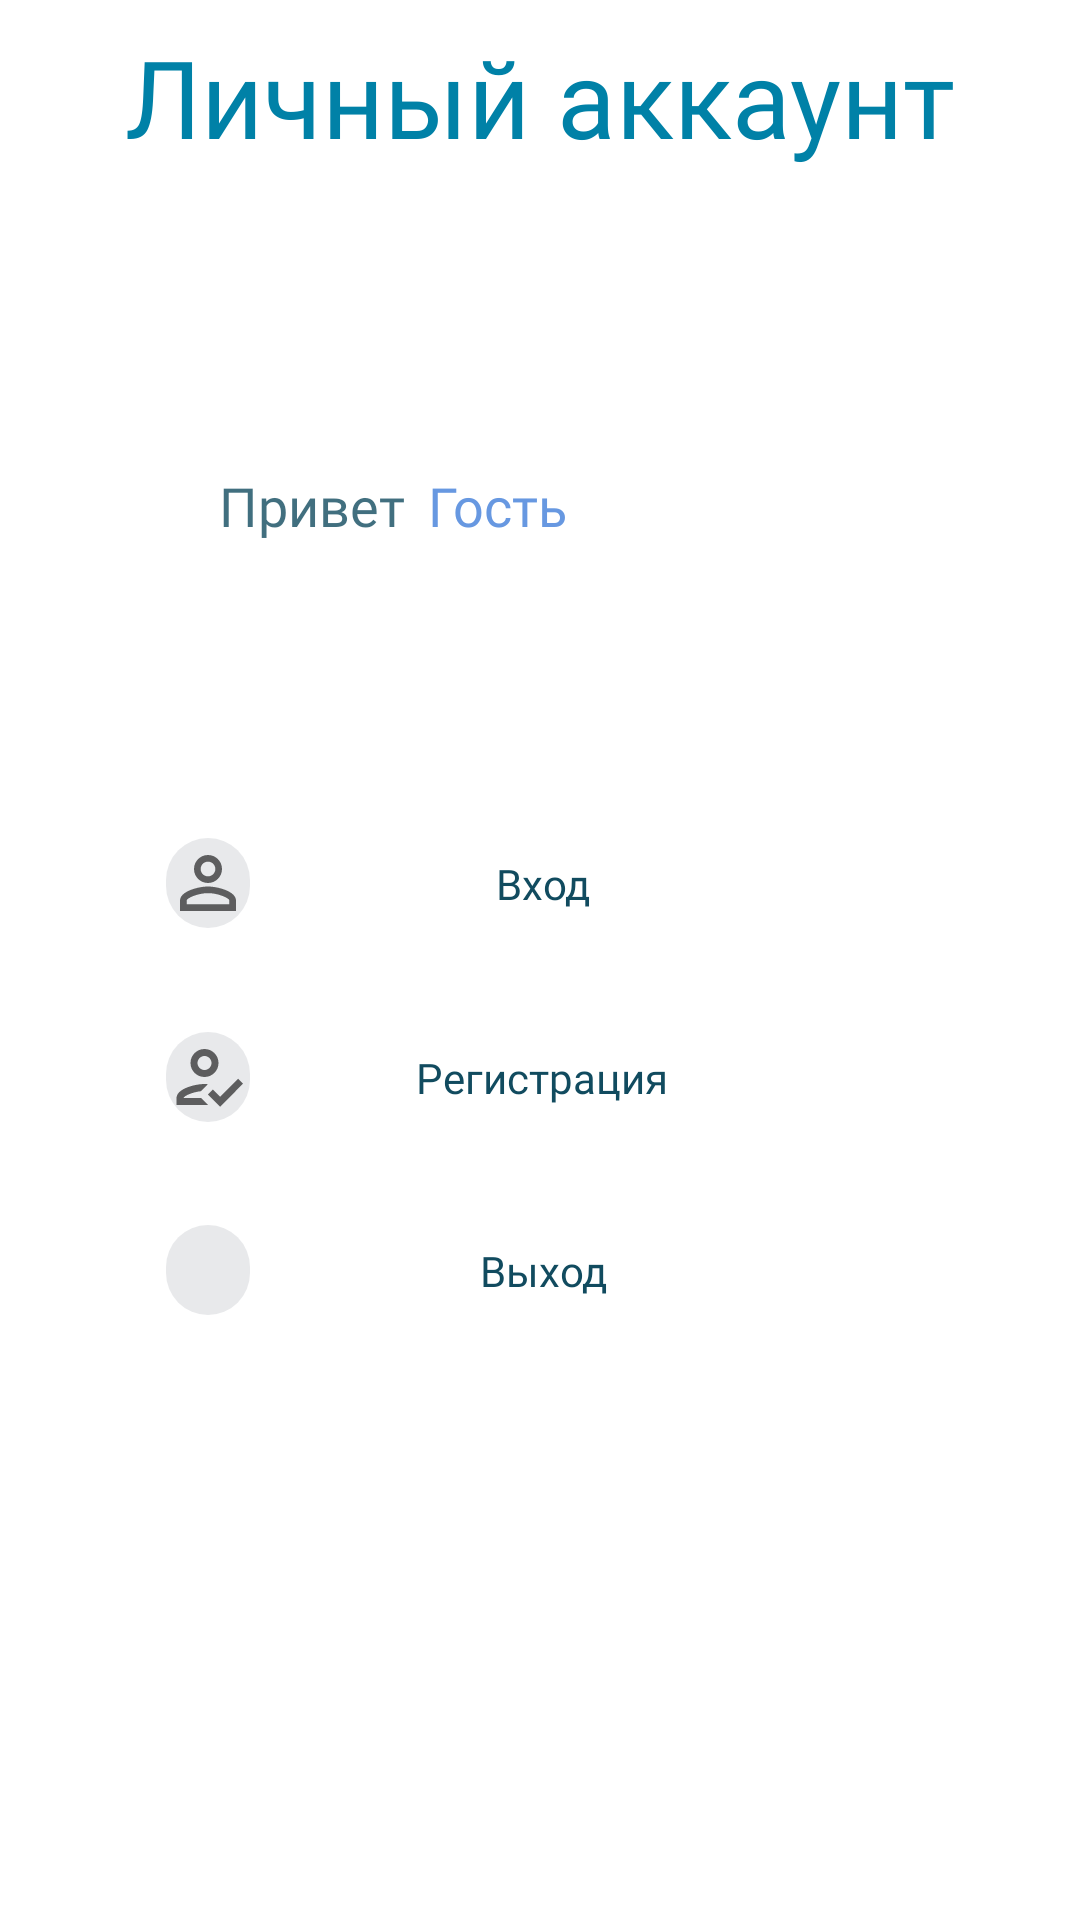

Where to tap for icons on this 1080w x 1920h app screen, as (x=x, y=y):
person: (x=208, y=883)
reg: (x=208, y=1077)
